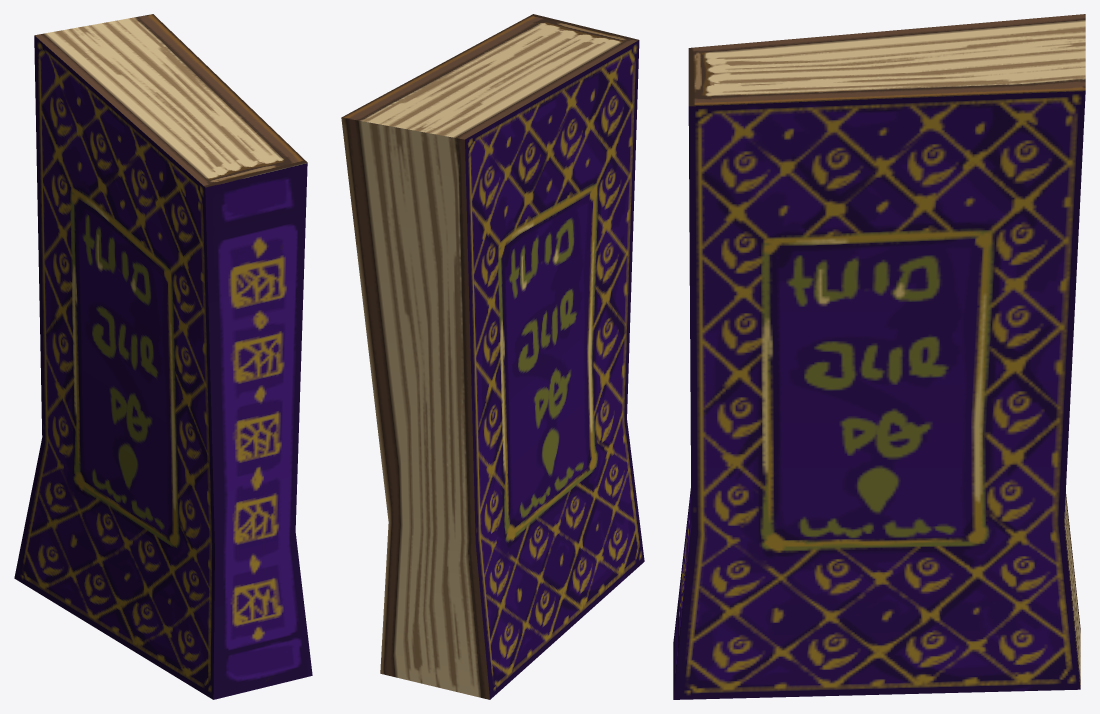
The model's file is SM_PROP_book_dungeon_04.fbx.
3 renders of one model, left to right at view 1: azimuth 30°, elevation 25°; view 2: azimuth 150°, elevation 25°; view 3: azimuth 270°, elevation 25°, orthographic. The views are drawn at different scales.
Parts seen in each view (by area): view 1: SM_PROP_book_dungeon_04; view 2: SM_PROP_book_dungeon_04; view 3: SM_PROP_book_dungeon_04.
Part boxes in pixels (<box>): SM_PROP_book_dungeon_04: <box>14,14,312,699</box>; SM_PROP_book_dungeon_04: <box>341,14,644,699</box>; SM_PROP_book_dungeon_04: <box>673,14,1085,699</box>.
Size of the model in its own units: 7.23 by 26.28 by 15.64.
